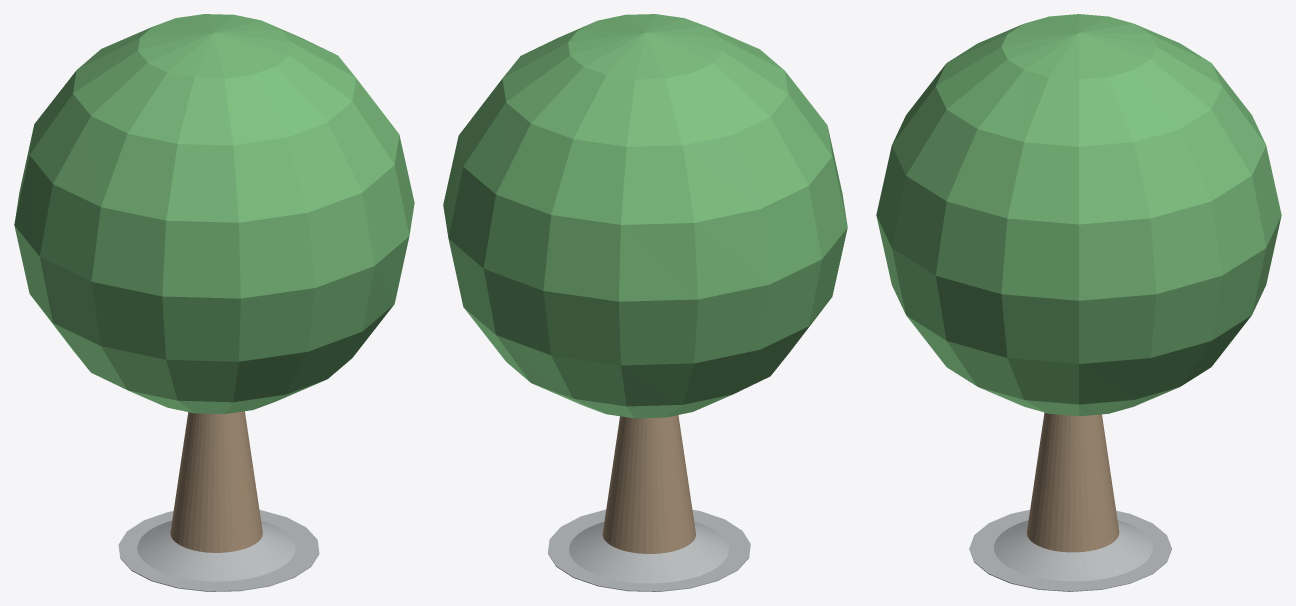
File: SphereTree1(8S).glb
The picture shows the model from 3 angles, left to right: view 1: azimuth 30°, elevation 25°; view 2: azimuth 150°, elevation 25°; view 3: azimuth 270°, elevation 25°; orthographic projection.
Parts seen in each view (by area): view 1: Mesh_Mesh_head_geo.001_lambert2SG.001; view 2: Mesh_Mesh_head_geo.001_lambert2SG.001; view 3: Mesh_Mesh_head_geo.001_lambert2SG.001.
Part boxes in pixels (x1=…): Mesh_Mesh_head_geo.001_lambert2SG.001: x1=14, y1=14, x2=414, y2=591; Mesh_Mesh_head_geo.001_lambert2SG.001: x1=443, y1=14, x2=847, y2=591; Mesh_Mesh_head_geo.001_lambert2SG.001: x1=876, y1=14, x2=1281, y2=591.
Bounding box in the file's own units: 5 × 7.02 × 5.
